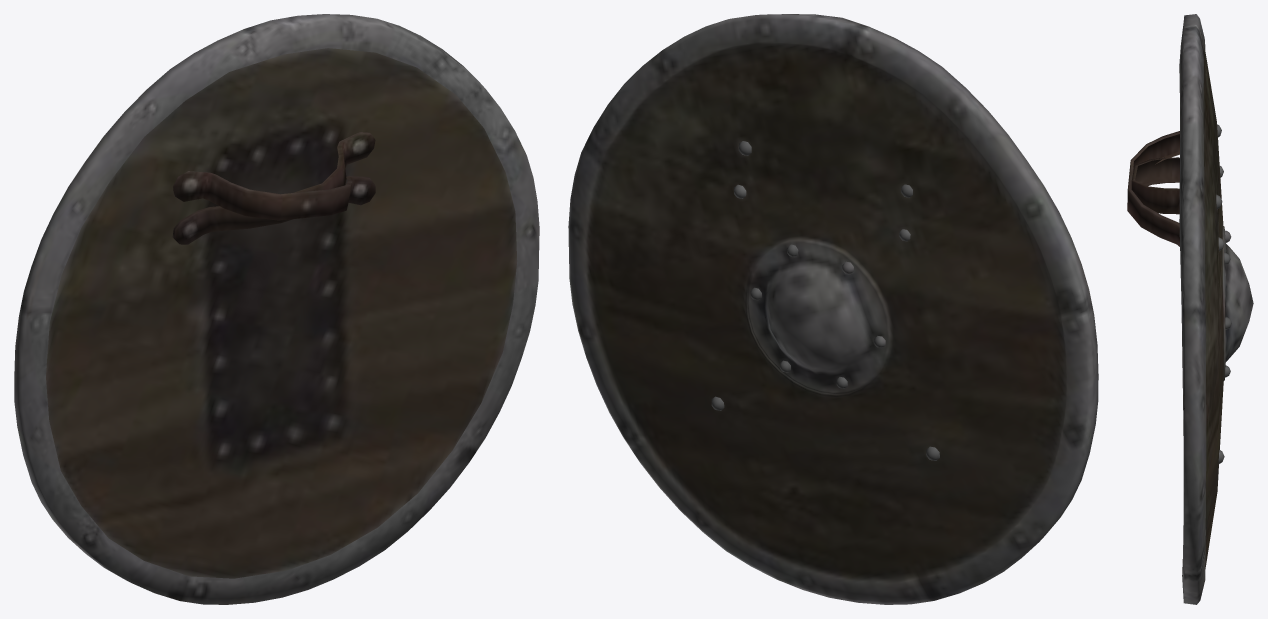
The model's file is weapon-wp_a_2016.glb.
3 renders of one model, left to right at view 1: azimuth 30°, elevation 25°; view 2: azimuth 150°, elevation 25°; view 3: azimuth 270°, elevation 25°, orthographic. The views are drawn at different scales.
Parts seen in each view (by area): view 1: wp_a_2016_mesh; view 2: wp_a_2016_mesh; view 3: wp_a_2016_mesh.
Boxes of the visible parts, x1=… form: wp_a_2016_mesh: x1=14, y1=14, x2=539, y2=604; wp_a_2016_mesh: x1=568, y1=14, x2=1098, y2=604; wp_a_2016_mesh: x1=1127, y1=14, x2=1253, y2=604.
Bounding box in the file's own units: 0.6473 × 0.6828 × 0.145.
Materials: 1 (1 with a texture image).
